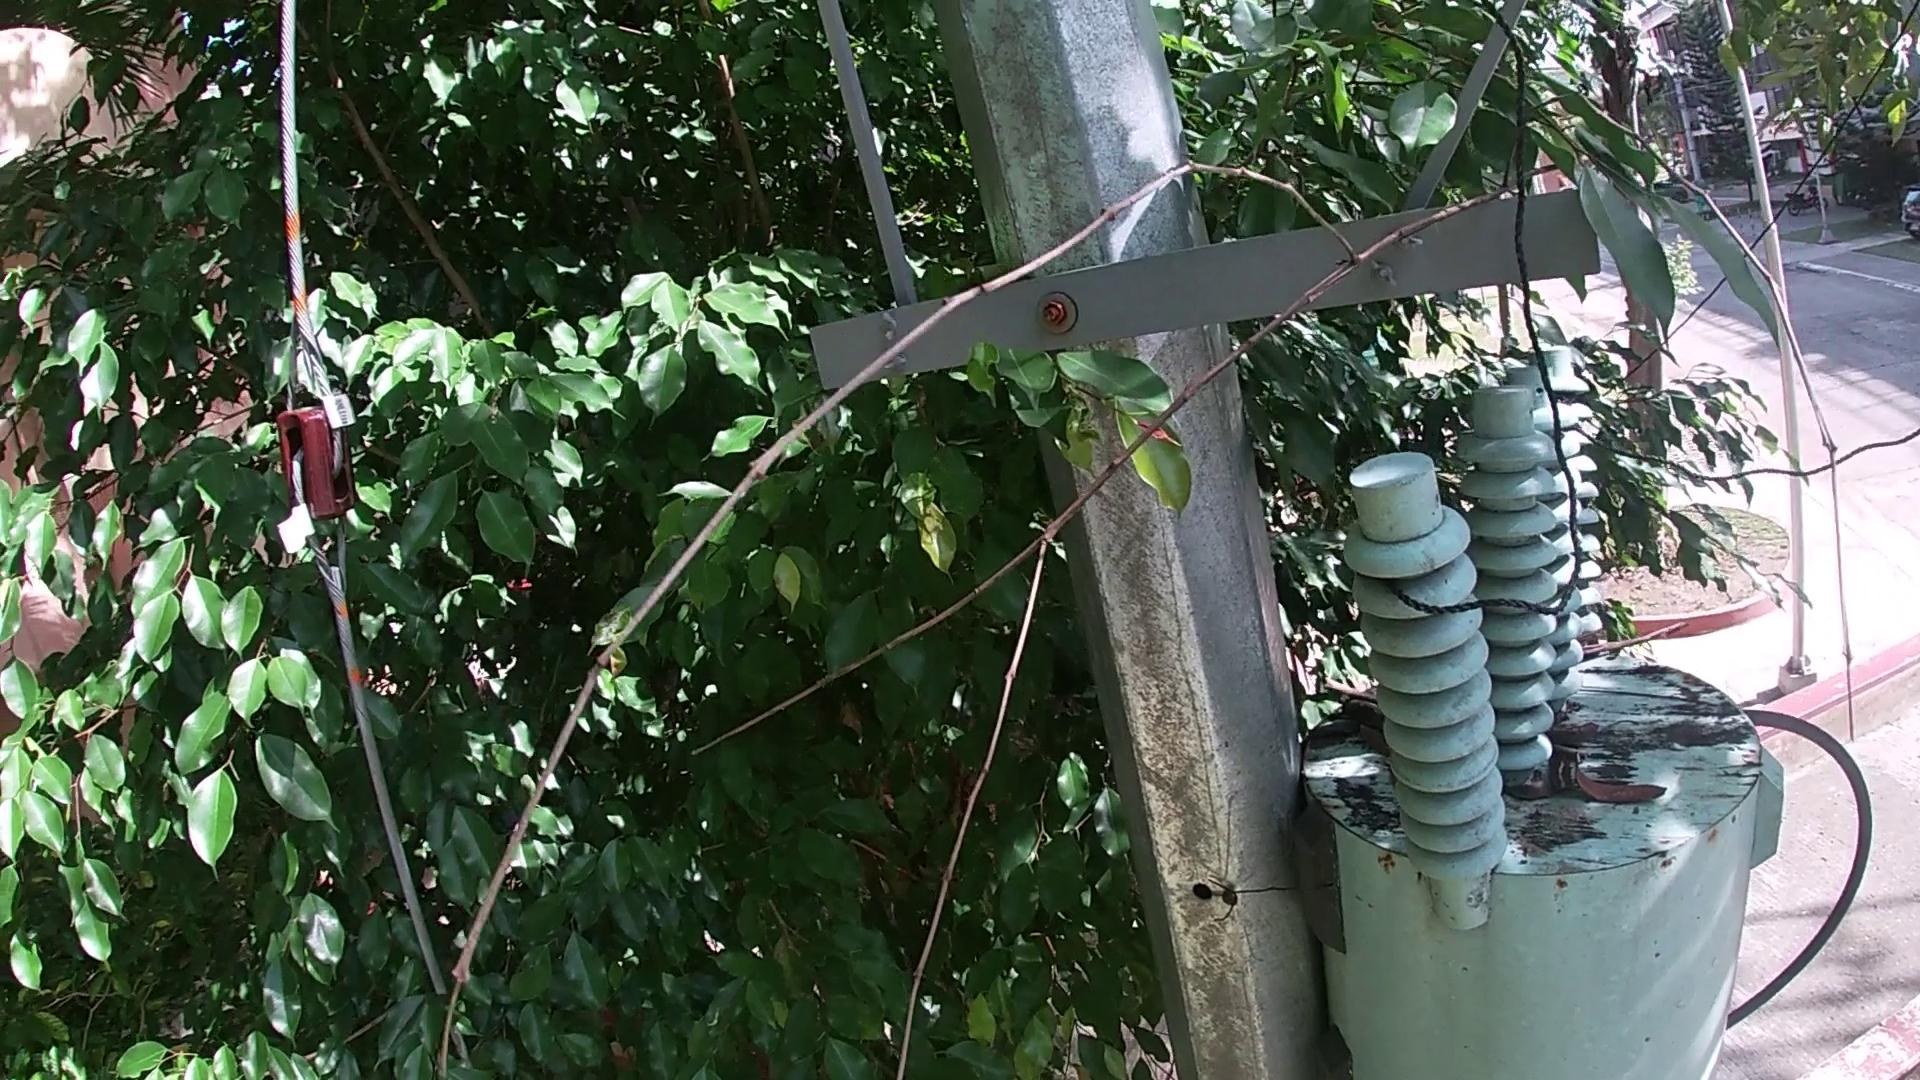leaf: (1568, 756, 1673, 810), (1352, 721, 1393, 756)
tree branch: (429, 83, 1869, 1079), (1578, 612, 1701, 666), (1321, 676, 1386, 727)
